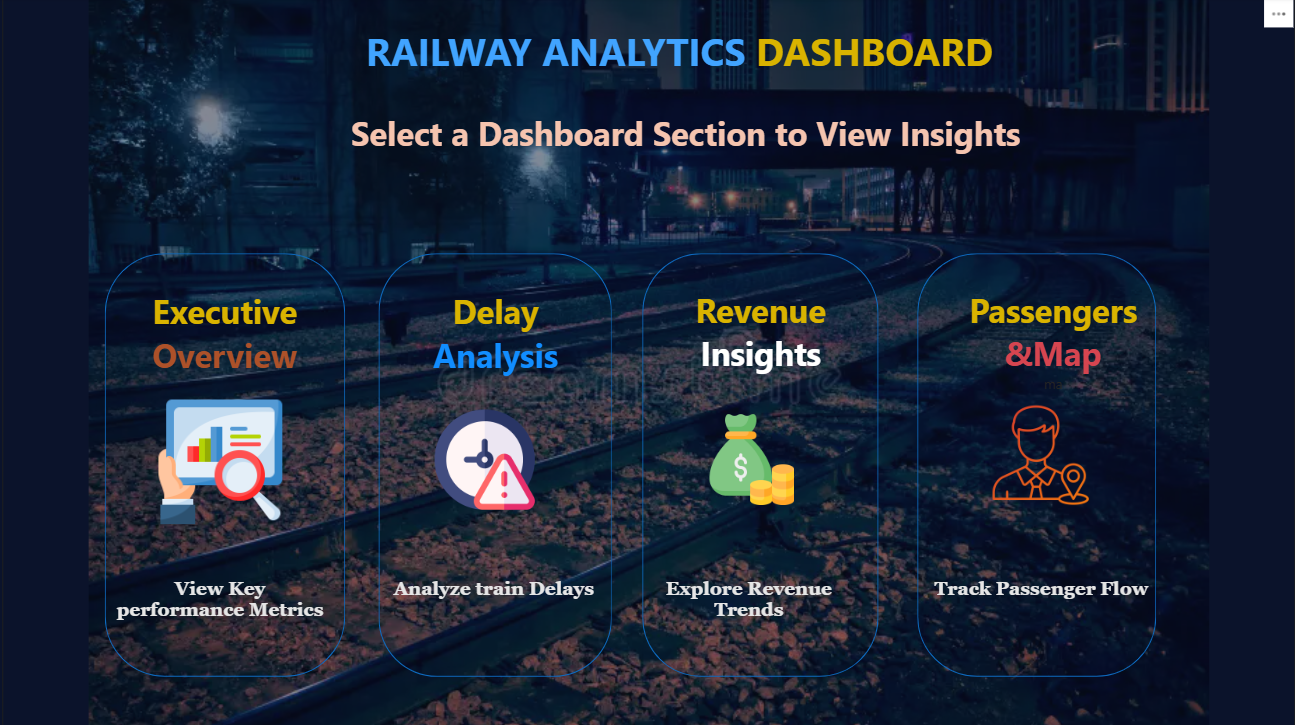

What the dashboard file says about the page in this screenshot:
{"tool":"powerbi","page":{"name":"Landing page","canvas":[1280,720],"ordinal":0},"visuals":[{"type":"image","box":[11,1.4,1269.3,719],"z":0},{"type":"textbox","box":[363.6,23.3,636.7,63.1],"z":1000},{"type":"textbox","box":[255.2,107,853.5,61.7],"z":2000},{"type":"shape","box":[111.1,251.1,236,415.8],"z":3000},{"type":"shape","box":[909.8,251.1,234.6,415.8],"z":4000},{"type":"shape","box":[639.5,251.1,231.9,415.8],"z":5000},{"type":"shape","box":[380.1,251.1,229.2,415.8],"z":6000},{"type":"textbox","box":[941.3,281.3,203.1,135.8],"z":7000},{"type":"textbox","box":[395.2,282.7,200.3,112.5],"z":8000},{"type":"textbox","box":[153.7,282.7,203.1,135.8],"z":9000},{"type":"textbox","box":[654.5,281.3,203.1,135.8],"z":10000},{"type":"image","box":[144.1,395.2,163.3,122.1],"z":11000},{"type":"image","box":[941.3,395.2,178.4,108.4],"z":12000},{"type":"image","box":[671,404.8,150.9,98.8],"z":13000},{"type":"image","box":[410.3,404.8,149.6,98.8],"z":14000},{"type":"textbox","box":[111.1,565.4,226.4,54.9],"z":15000},{"type":"textbox","box":[380.1,565.4,226.4,54.9],"z":16000},{"type":"textbox","box":[918,565.4,226.4,54.9],"z":17000},{"type":"textbox","box":[631.2,565.4,226.4,54.9],"z":18000}]}

Visuals, with their boxes in screenshot pixels (x1, y1, x2, y2), scaled from the page's 1280x720 canvas onto the 1295x725 screenshot:
image: bbox=(11, 1, 1294, 724)
textbox: bbox=(368, 23, 1012, 87)
textbox: bbox=(258, 108, 1122, 170)
shape: bbox=(112, 253, 351, 672)
shape: bbox=(920, 253, 1158, 672)
shape: bbox=(647, 253, 882, 672)
shape: bbox=(385, 253, 616, 672)
textbox: bbox=(952, 283, 1158, 420)
textbox: bbox=(400, 285, 602, 398)
textbox: bbox=(156, 285, 361, 421)
textbox: bbox=(662, 283, 868, 420)
image: bbox=(146, 398, 311, 521)
image: bbox=(952, 398, 1133, 507)
image: bbox=(679, 408, 832, 507)
image: bbox=(415, 408, 566, 507)
textbox: bbox=(112, 569, 341, 625)
textbox: bbox=(385, 569, 614, 625)
textbox: bbox=(929, 569, 1158, 625)
textbox: bbox=(639, 569, 868, 625)
